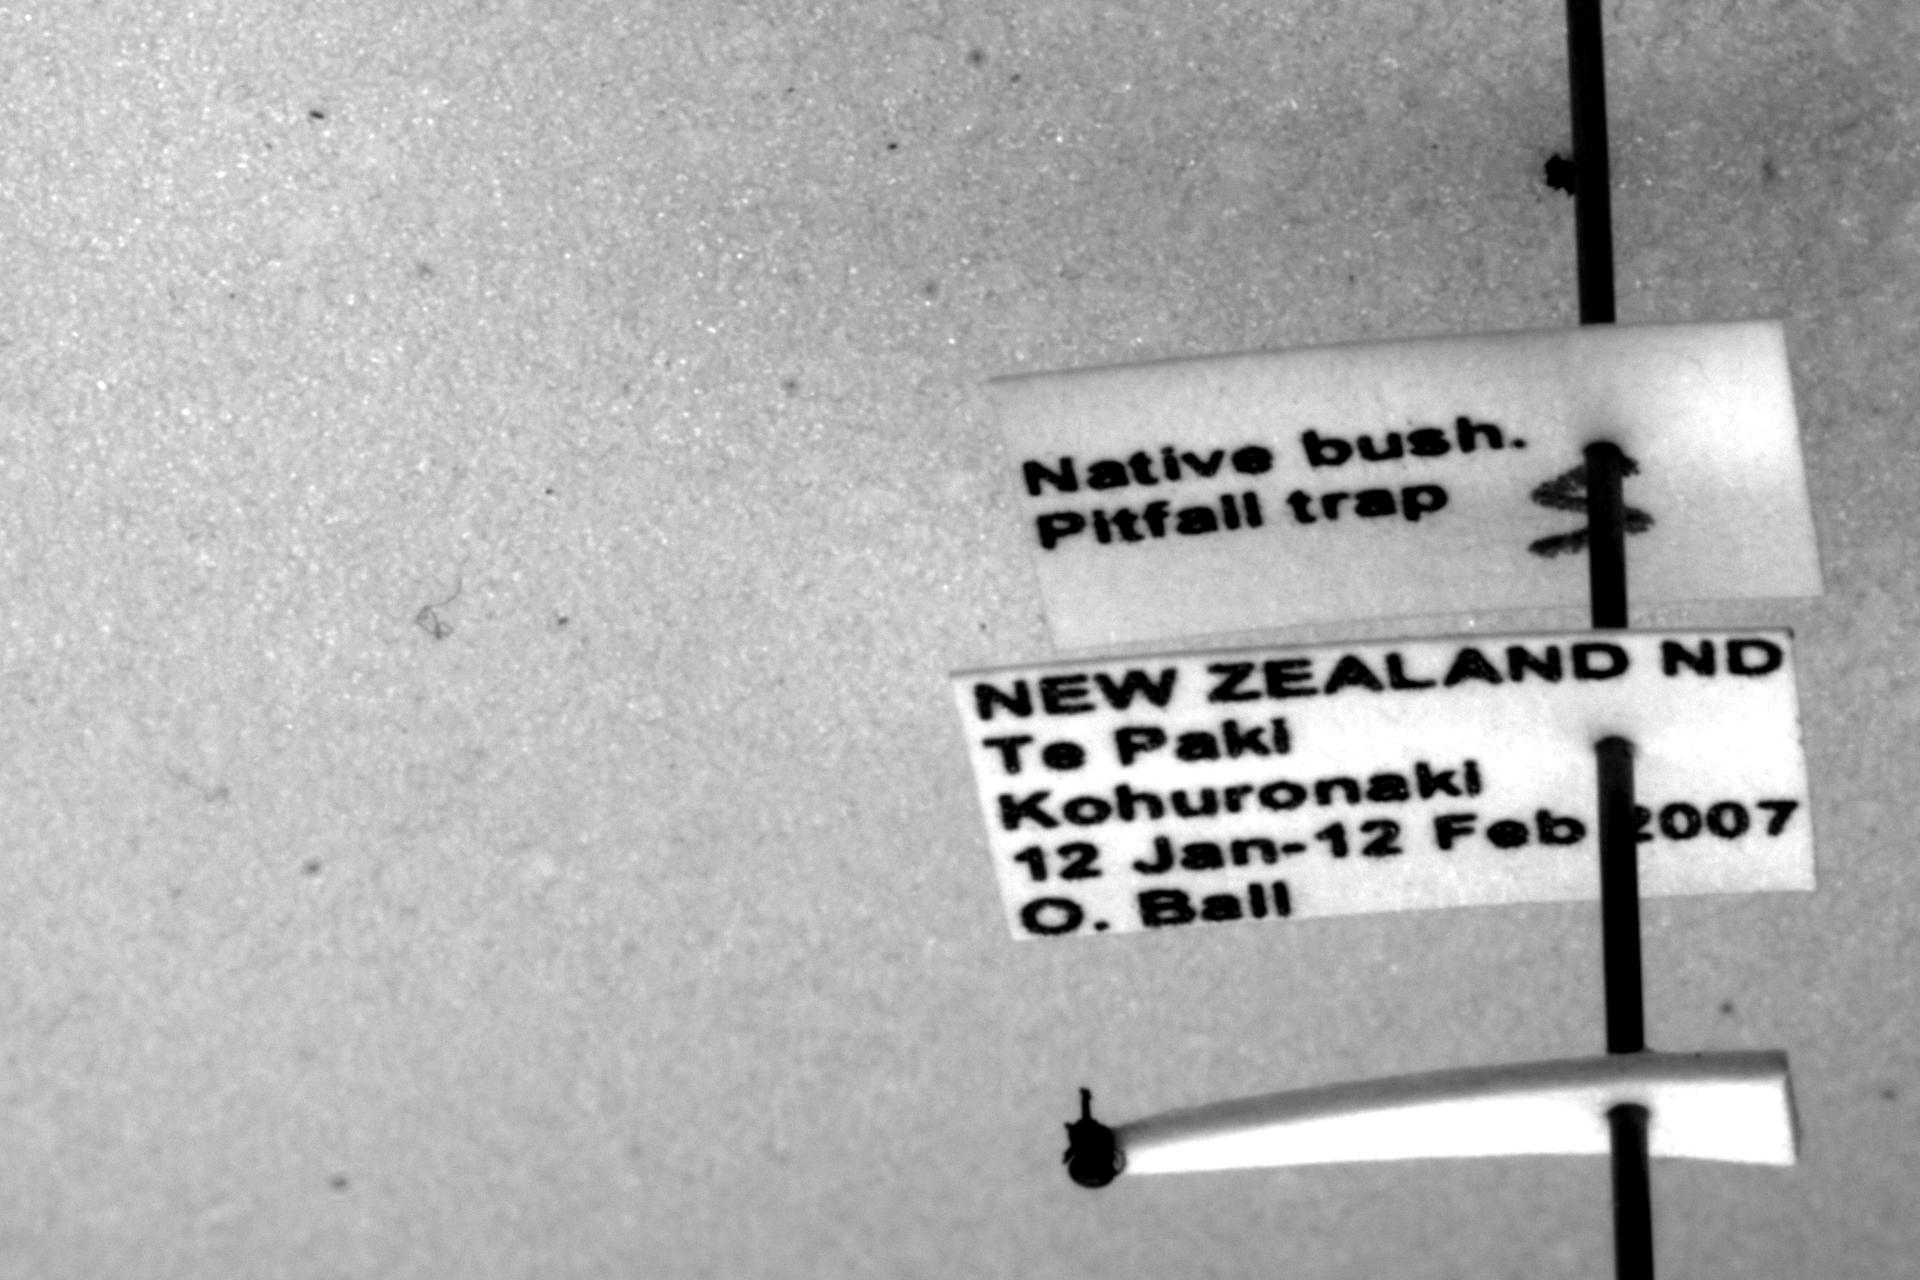typed_label: (994, 319, 1823, 649), (953, 630, 1814, 937)
